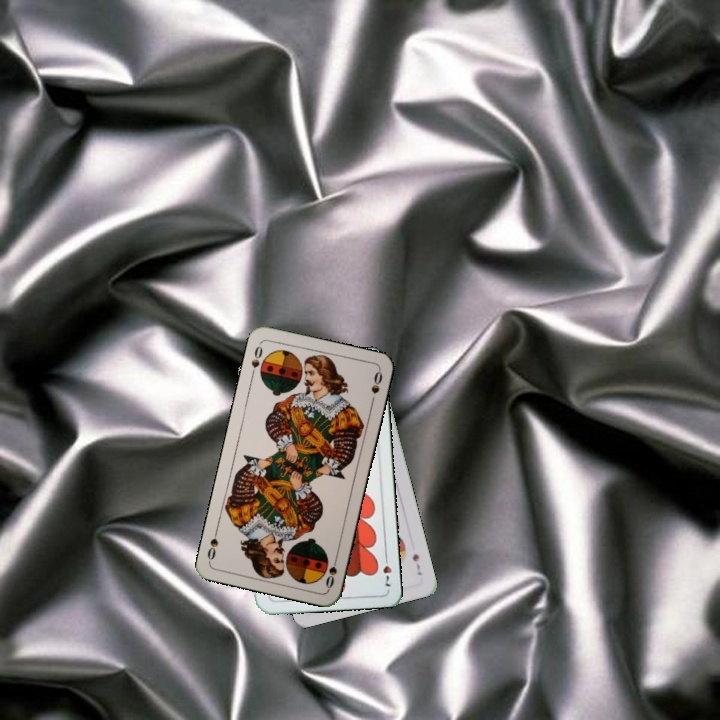H7: (379, 550, 394, 589)
S7: (408, 550, 425, 578)
SO: (321, 551, 341, 591), (247, 340, 265, 380)
